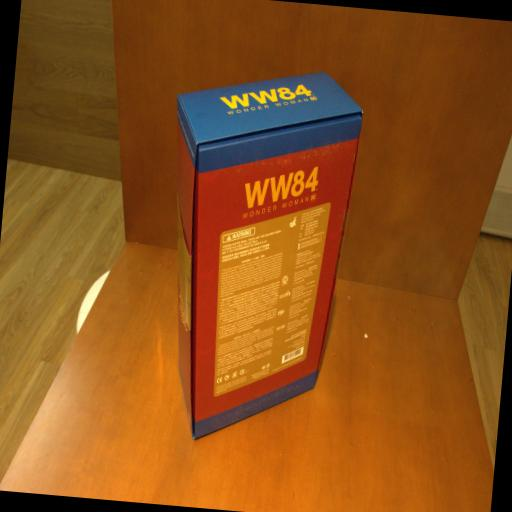WonderWoman: (146, 56, 366, 455)
